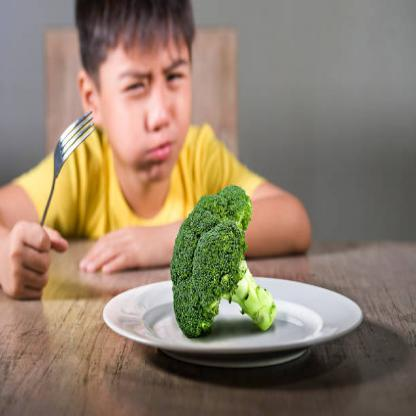broccoli: (170, 184, 278, 336)
